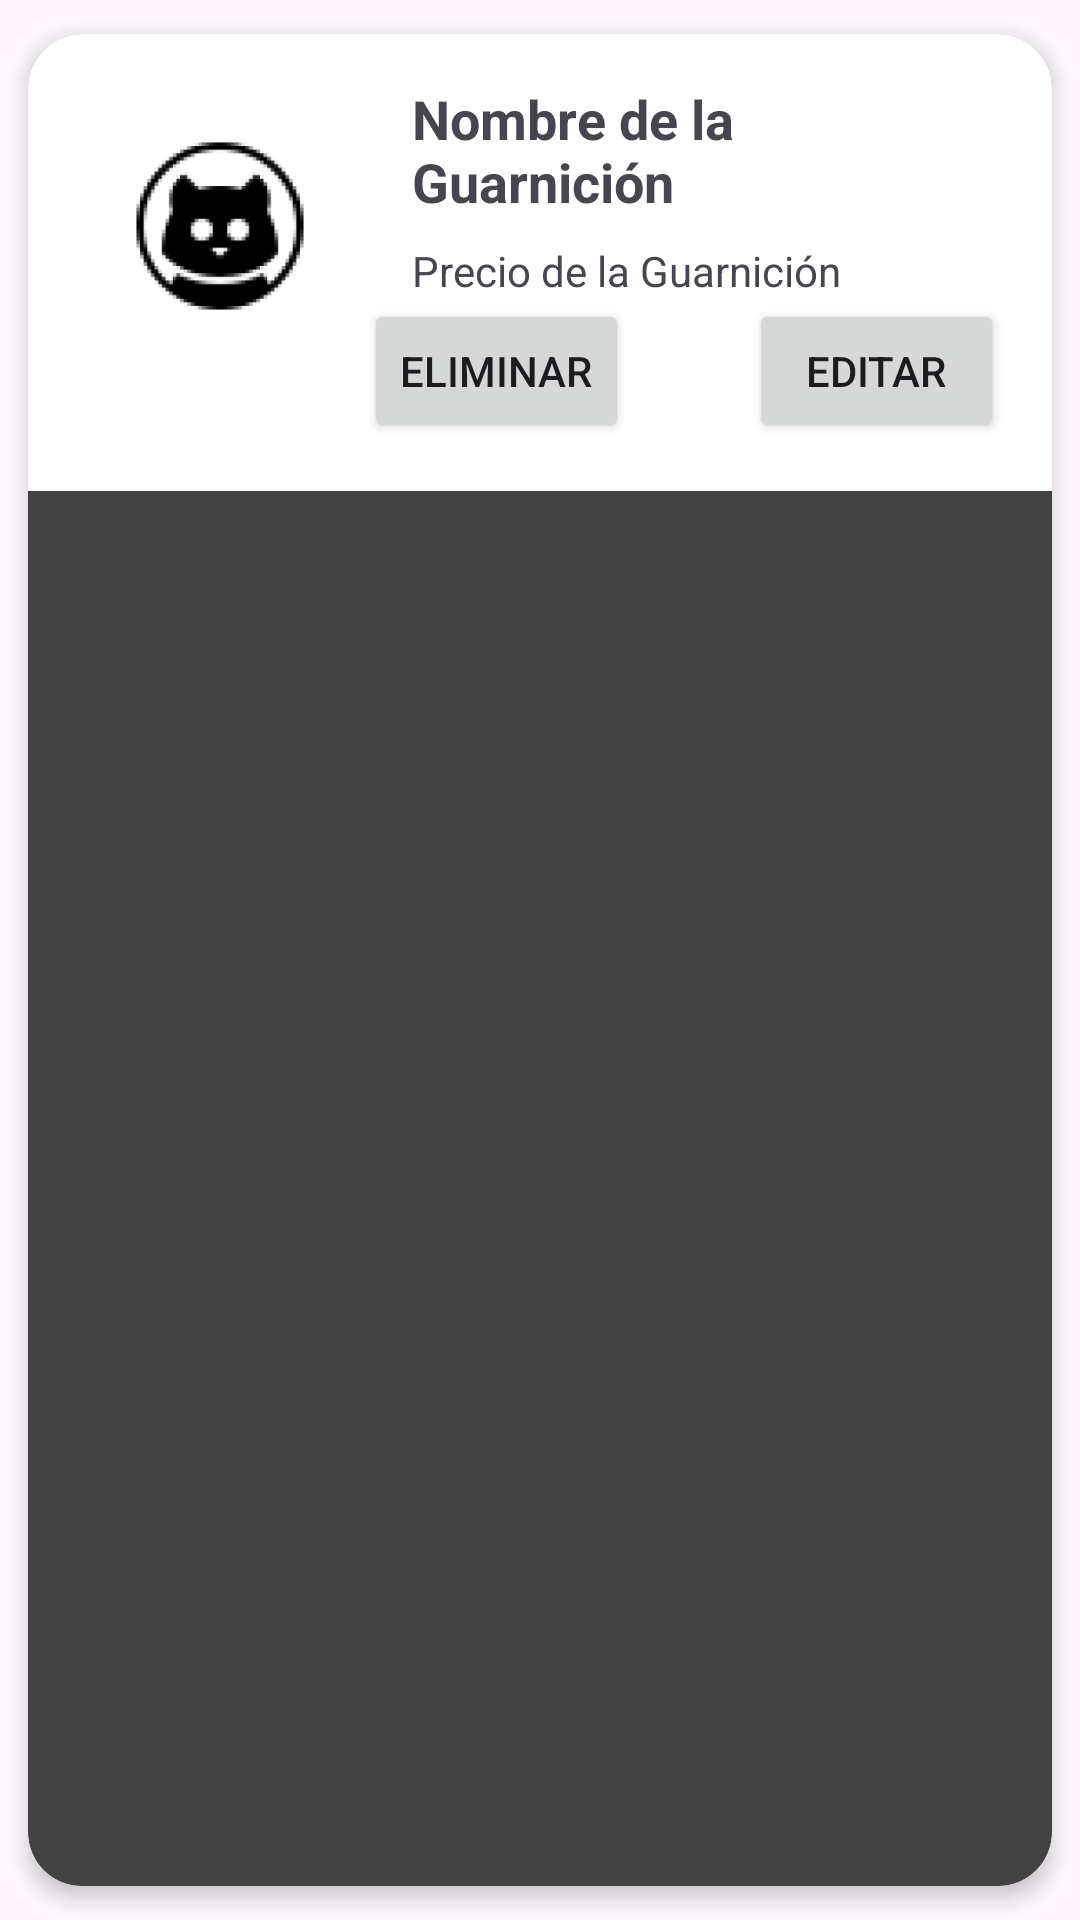

Point at icon controls on the screen. Image size 1080px x 1920px, points as point (x, y).
perfil cat: point (220, 226)
